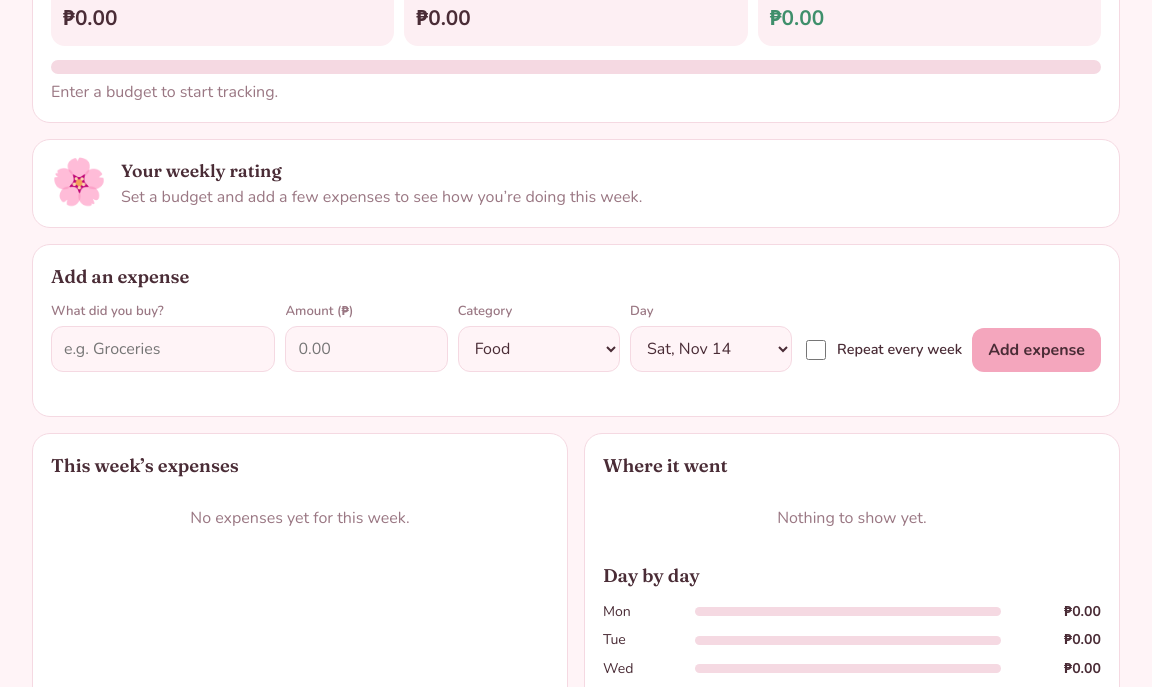
it: App › can undo clearing the week, and the button lives on the Expenses tab
(page scrolled)
Type "Apples" into the field labelled "What did you buy?" at (163, 349), box left=51, top=326, right=275, bottom=372
Type "1" into the number field with id "amt" at (366, 349), box left=285, top=326, right=448, bottom=372
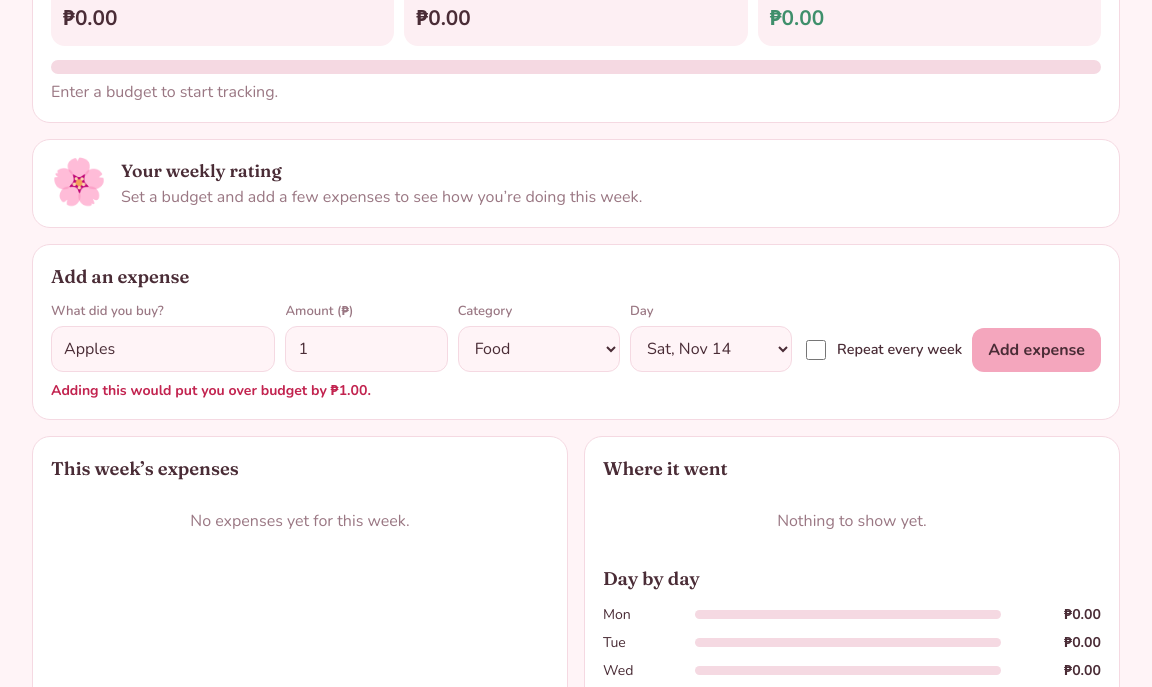
Click the button "Add expense" at (1037, 350), box left=972, top=328, right=1101, bottom=372
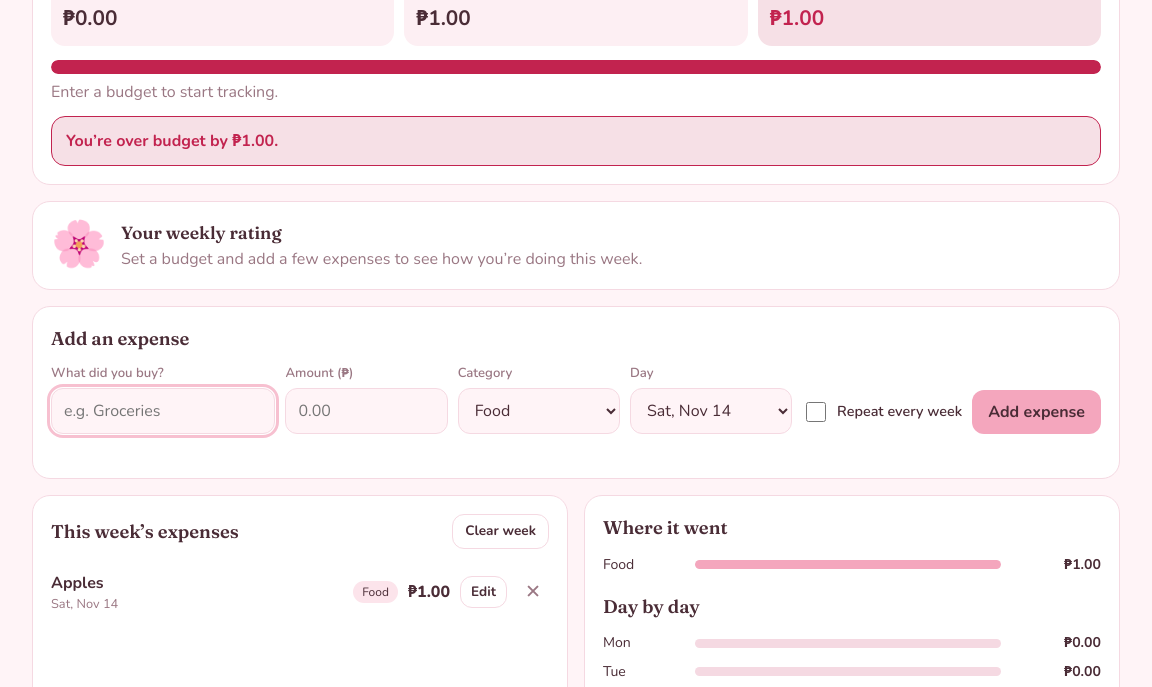
Type "Bananas" into the field labelled "What did you buy?" at (163, 411), box left=51, top=388, right=275, bottom=434
Type "2" into the number field with id "amt" at (366, 411), box left=285, top=388, right=448, bottom=434
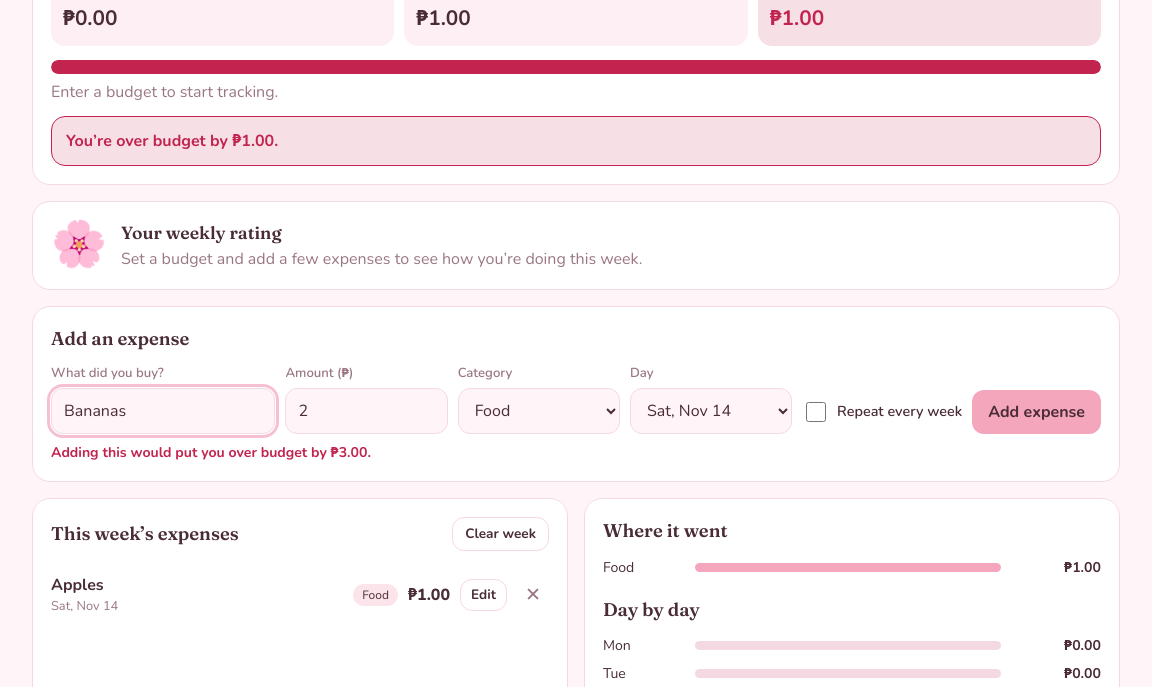
Click the button "Add expense" at (1037, 412), box left=972, top=390, right=1101, bottom=434
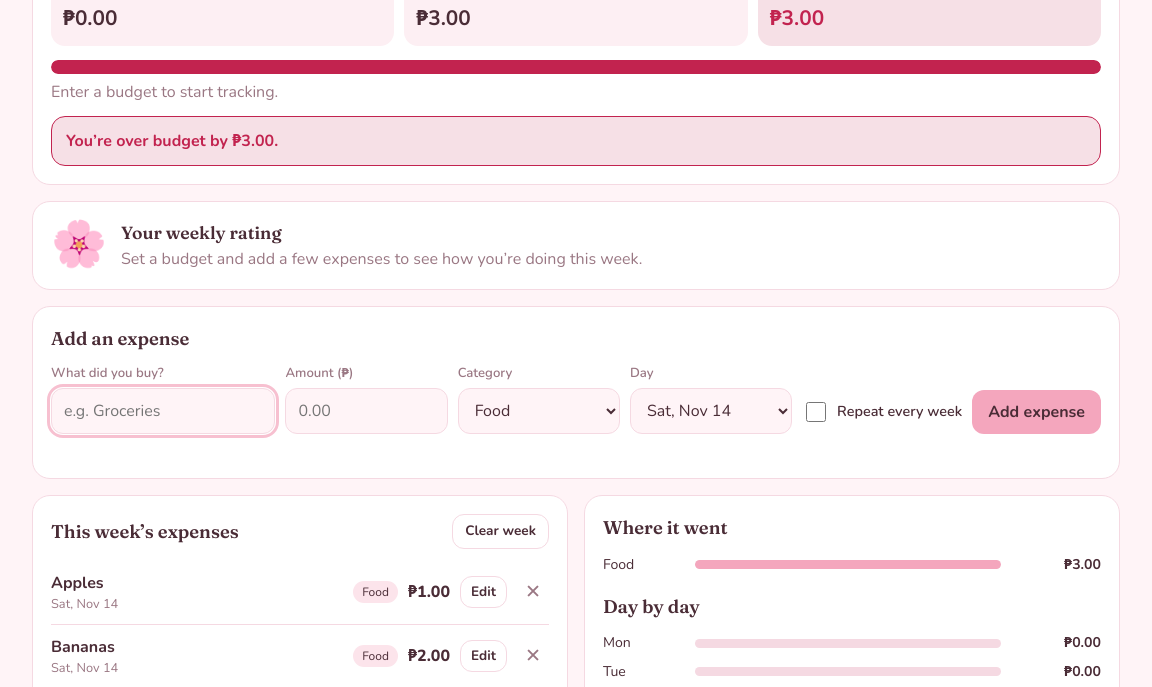
Click the button "Clear week" at (501, 531), box left=452, top=514, right=549, bottom=549
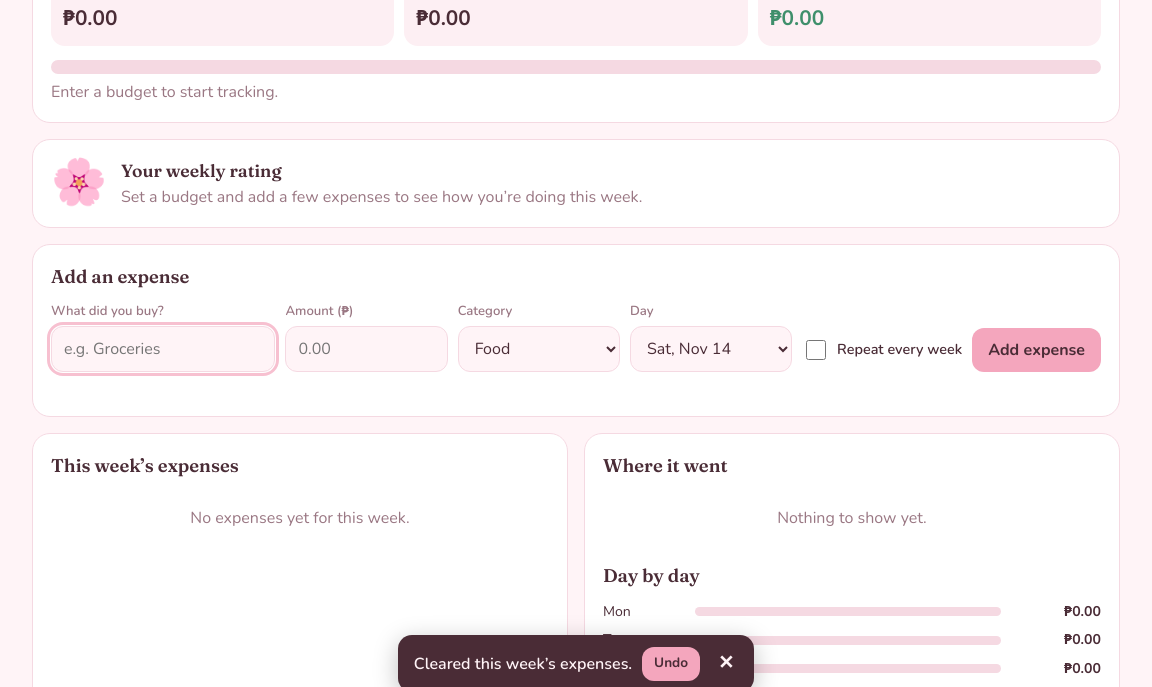
Now the list item "No expenses yet for this week." is shown, box left=190, top=507, right=410, bottom=529
Click the button "Undo" at (671, 664), box left=642, top=647, right=700, bottom=681
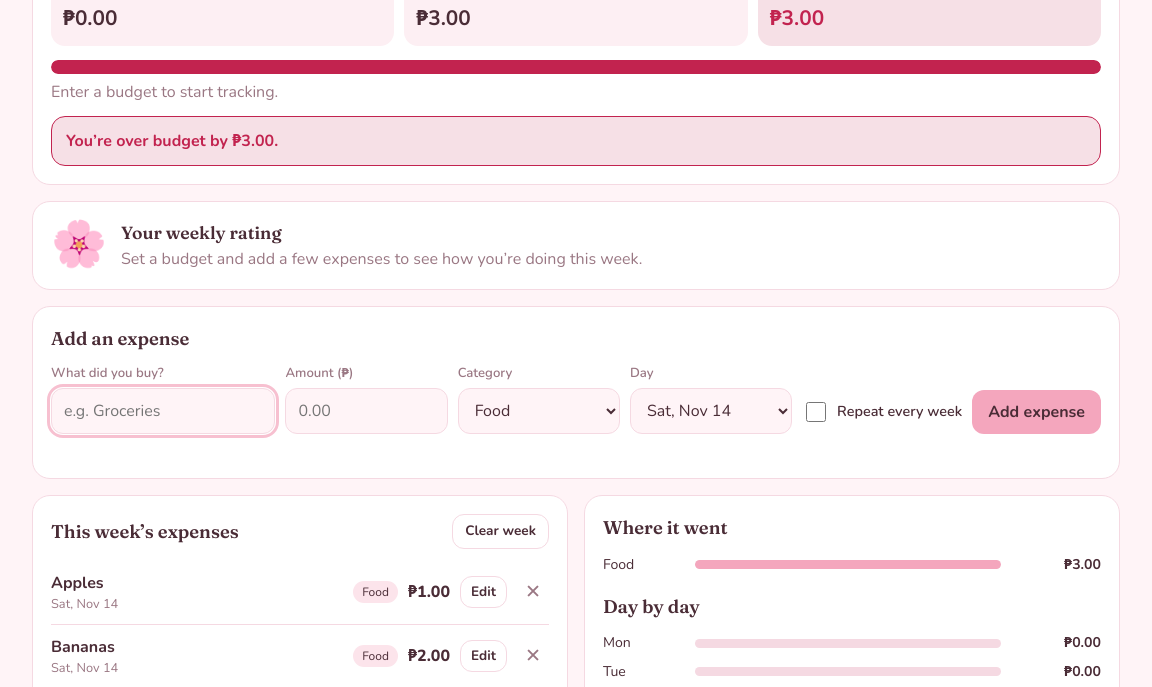
Now the text "Apples" is shown, box left=51, top=572, right=104, bottom=594
Now the text "Bananas" is shown, box left=51, top=636, right=115, bottom=658
